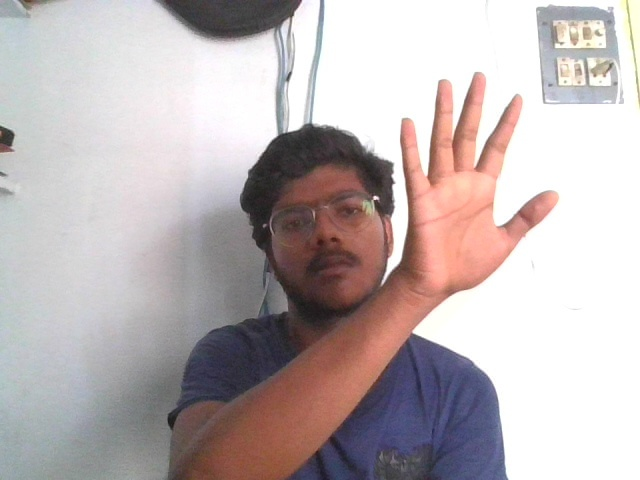Hello: (397, 66, 561, 294)
